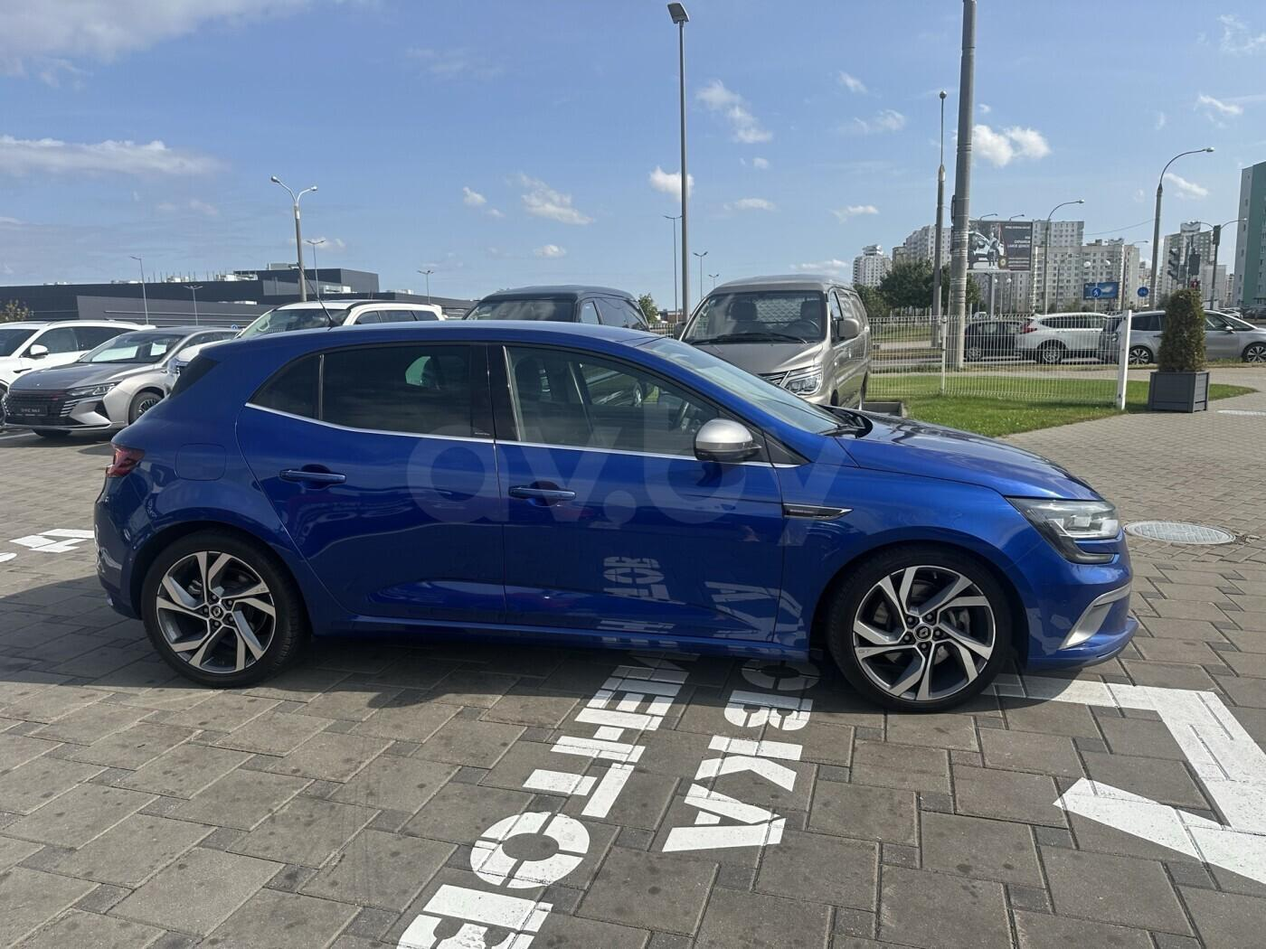Megane_2016-2020: (84, 311, 1139, 719)
